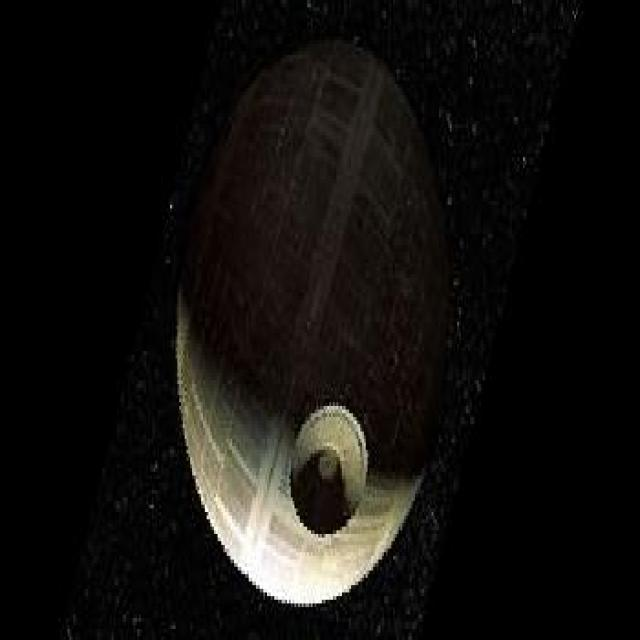Death Star: (176, 35, 467, 610)
